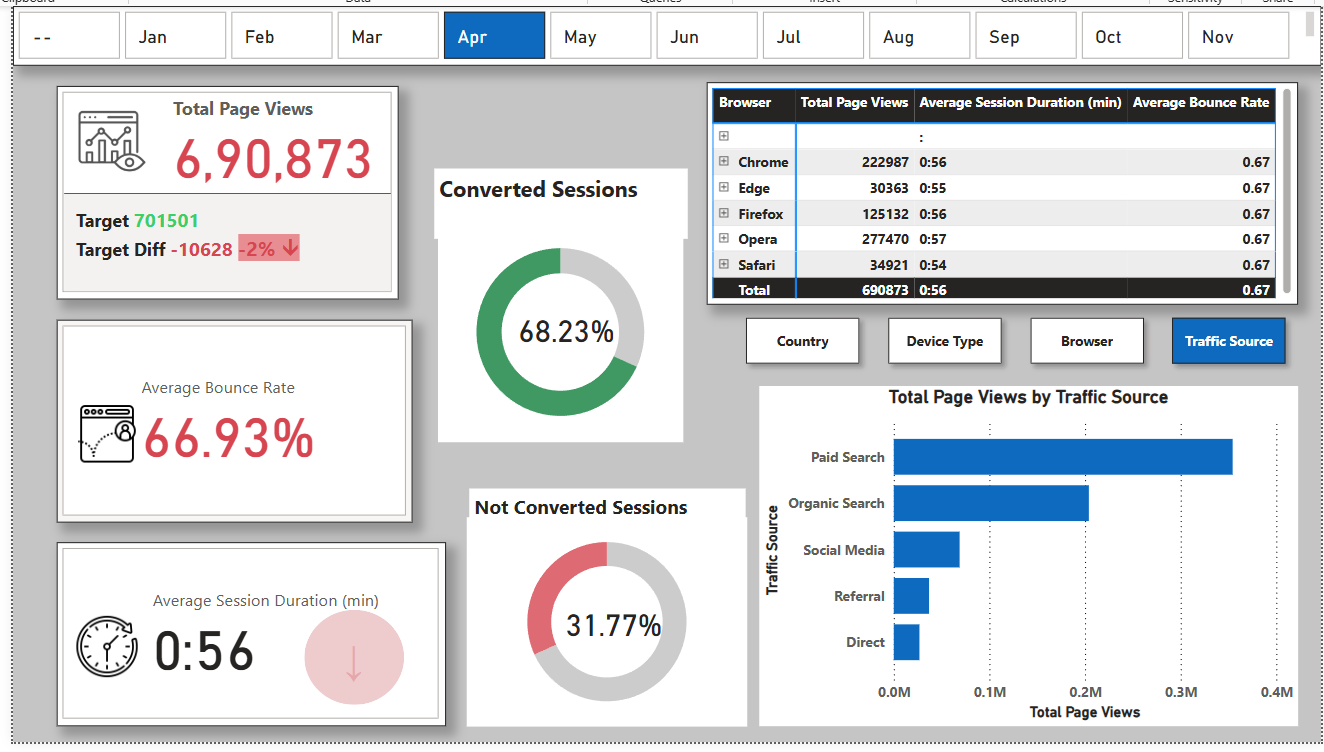

The dashboard page shown, as its layout file describes it:
{"tool":"powerbi","page":{"name":"Page 1","canvas":[1280,720],"ordinal":0},"visuals":[{"type":"advancedSlicerVisual","fields":{"Values":["DateTable.Month"]},"box":[0,0,1279.8,58.7],"z":0},{"type":"donutChart","fields":{"Y":["DAXTable.R Conversion","DAXTable.% Conversion Session"]},"box":[415.2,211.7,239.8,215.2],"z":0,"group":"g2"},{"type":"donutChart","fields":{"Y":["DAXTable.R Not Conversion","DAXTable.% Not Conversion Session"]},"box":[443.9,500,274.7,204.8],"z":0,"group":"g5"},{"type":"cardVisual","fields":{"Data":["DAXTable.CF session Arrow"]},"box":[295.4,590.7,75.3,93.1],"z":0,"group":"g1"},{"type":"cardVisual","fields":{"Data":["DAXTable.Total Page Views"]},"box":[42.5,78.7,334.6,208.5],"z":1000},{"type":"cardVisual","fields":{"Data":["DAXTable.% Conversion Session"]},"box":[476.3,276.5,131.2,69.7],"z":1000,"group":"g2"},{"type":"cardVisual","fields":{"Data":["DAXTable.% Not Conversion Session"]},"box":[523.1,563.8,136.7,68.7],"z":1000,"group":"g5"},{"type":"shape","box":[284.8,590.7,97.8,93.1],"z":1000,"group":"g1"},{"type":"cardVisual","fields":{"Data":["DAXTable.Average Bounce Rate"]},"box":[42.5,307.1,348.3,198.5],"z":2000},{"type":"cardVisual","fields":{"Data":["DAXTable.Formatted sessions"]},"box":[42.5,524.4,380.8,179.8],"z":2000,"group":"g3"},{"type":"clusteredBarChart","fields":{"Category":["website analytics dataset.Country","website analytics dataset.Device Type","website analytics dataset.Browser","website analytics dataset.Traffic Source"],"Y":["DAXTable.Total Page Views"]},"box":[730,371.7,527,332.6],"z":3000},{"type":"group","id":"g1","title":"Group 1","box":[284.8,590.7,97.9,93.6],"z":3000,"group":"g3"},{"type":"pivotTable","fields":{"Rows":["website analytics dataset.Browser","website analytics dataset.Device Type","website analytics dataset.Country","website analytics dataset.Traffic Source"],"Values":["DAXTable.Total Page Views","DAXTable.Average Session Duration (min)","DAXTable.Average Bounce Rate"]},"box":[678.7,74.6,578.4,217.7],"z":4000},{"type":"bookmarkNavigator","box":[708,295.9,549.1,63.6],"z":5000},{"type":"group","id":"g2","title":"Group 4","box":[415.2,211.7,240.9,215.2],"z":6000,"group":"g4"},{"type":"group","id":"g3","title":"Group 2","box":[42.5,524.4,380.8,179.8],"z":6000},{"type":"group","id":"g4","title":"Group 5","box":[412.1,159,248.2,267.8],"z":7000},{"type":"group","id":"g5","title":"Group 3","box":[443.9,500,274.7,204.8],"z":7000,"group":"g6"},{"type":"group","id":"g6","title":"Group 6","box":[443.9,472,275.1,232.3],"z":8000},{"type":"textbox","box":[412.1,159,248.2,68.5],"z":8002,"group":"g4"},{"type":"textbox","box":[446.5,472,270.6,49.1],"z":8004,"group":"g6"}]}

Visuals, with their boxes in screenshot pixels (x1, y1, x2, y2):
advancedSlicerVisual - DateTable.Month: (x1=10, y1=3, x2=1316, y2=63)
donutChart - DAXTable.R Conversion x DAXTable.% Conversion Session: (x1=434, y1=219, x2=678, y2=439)
donutChart - DAXTable.R Not Conversion x DAXTable.% Not Conversion Session: (x1=463, y1=513, x2=743, y2=722)
cardVisual - DAXTable.CF session Arrow: (x1=312, y1=606, x2=388, y2=701)
cardVisual - DAXTable.Total Page Views: (x1=54, y1=84, x2=395, y2=296)
cardVisual - DAXTable.% Conversion Session: (x1=496, y1=286, x2=630, y2=357)
cardVisual - DAXTable.% Not Conversion Session: (x1=544, y1=579, x2=683, y2=649)
shape: (x1=301, y1=606, x2=401, y2=701)
cardVisual - DAXTable.Average Bounce Rate: (x1=54, y1=317, x2=409, y2=519)
cardVisual - DAXTable.Formatted sessions: (x1=54, y1=538, x2=442, y2=722)
clusteredBarChart - website analytics dataset.Country x website analytics dataset.Device Type: (x1=755, y1=383, x2=1293, y2=722)
"Group 1" group: (x1=301, y1=606, x2=401, y2=701)
pivotTable - website analytics dataset.Browser x website analytics dataset.Device Type: (x1=703, y1=80, x2=1293, y2=302)
bookmarkNavigator: (x1=733, y1=305, x2=1293, y2=370)
"Group 4" group: (x1=434, y1=219, x2=680, y2=439)
"Group 2" group: (x1=54, y1=538, x2=442, y2=722)
"Group 5" group: (x1=431, y1=166, x2=684, y2=439)
"Group 3" group: (x1=463, y1=513, x2=743, y2=722)
"Group 6" group: (x1=463, y1=485, x2=744, y2=722)
textbox: (x1=431, y1=166, x2=684, y2=236)
textbox: (x1=466, y1=485, x2=742, y2=535)
